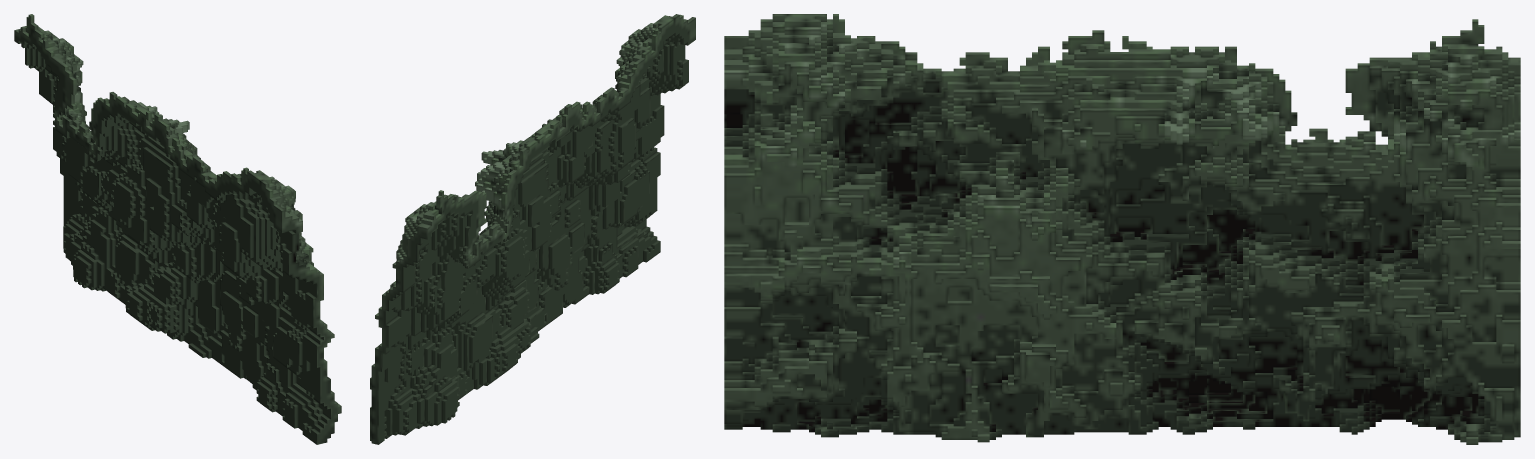
The model's file is treeline01-5-6r.fbx.
3 views of the same model, side by side, from view 1: azimuth 30°, elevation 25°; view 2: azimuth 150°, elevation 25°; view 3: azimuth 270°, elevation 25° (orthographic). The views are drawn at different scales.
Visible parts, largest first — view 1: treeline01-5-6r; view 2: treeline01-5-6r; view 3: treeline01-5-6r.
Part boxes in pixels (x1,y1,x2,y2): treeline01-5-6r: (14, 14, 341, 444); treeline01-5-6r: (370, 14, 695, 444); treeline01-5-6r: (724, 14, 1520, 444).
Size of the model in its own units: 19 by 70 by 132.
